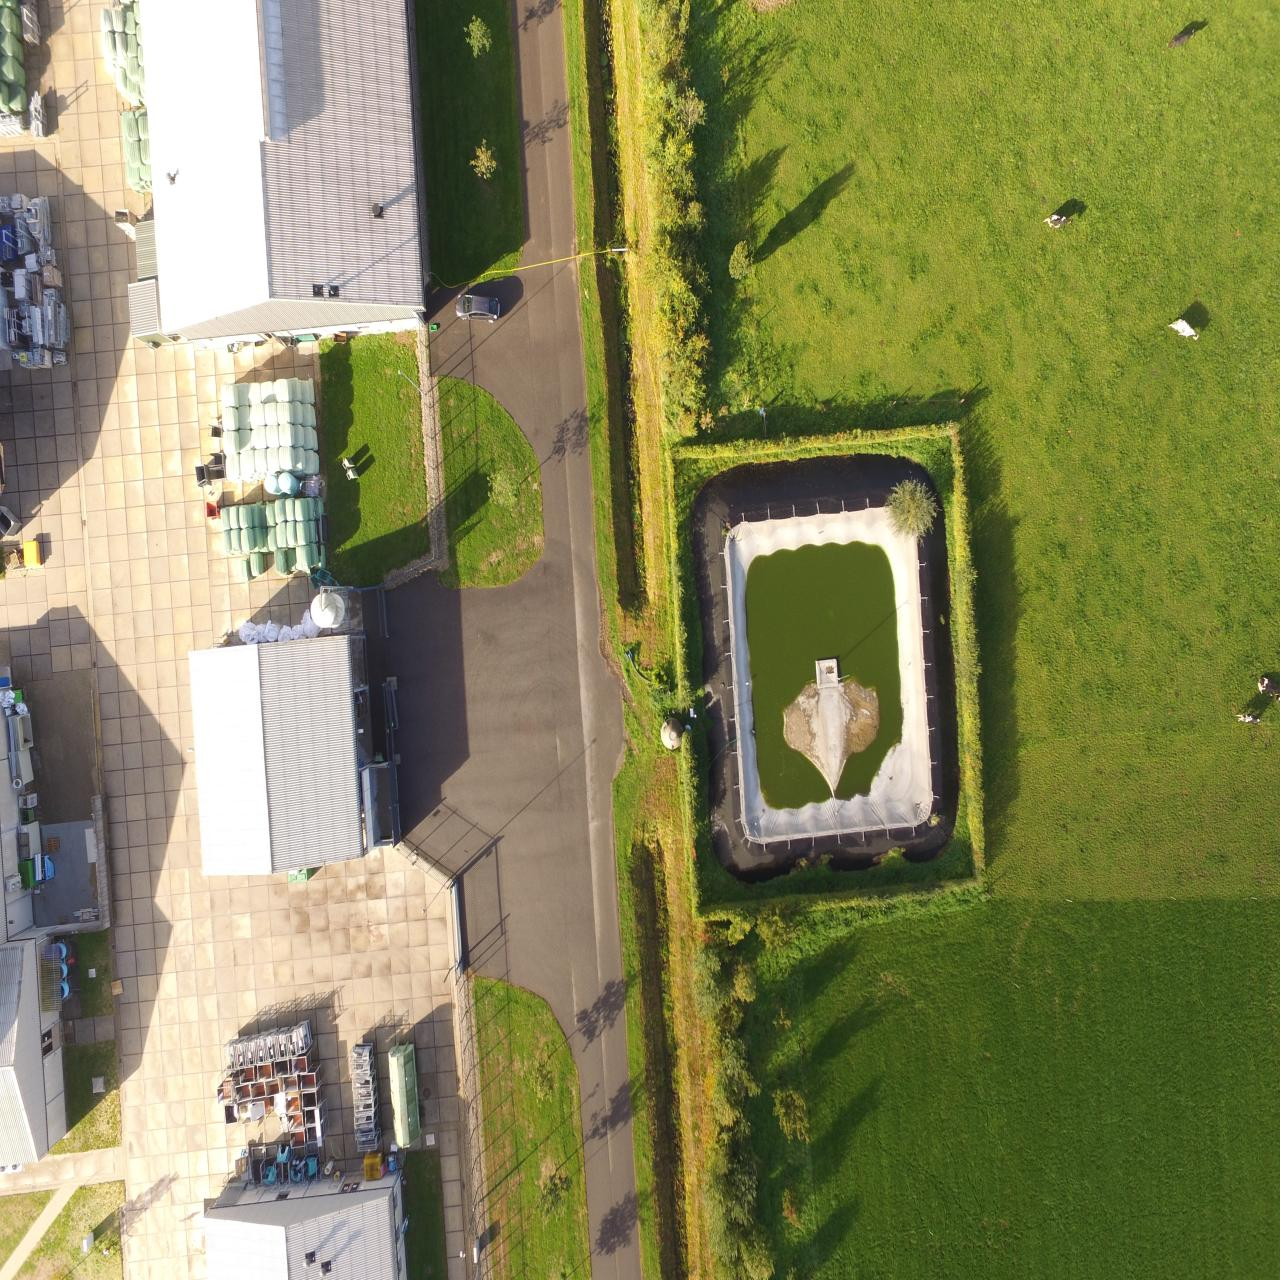cow: (1164, 313, 1206, 349), (1232, 700, 1261, 735), (1253, 672, 1280, 707), (1039, 211, 1078, 233), (1167, 22, 1196, 50)
